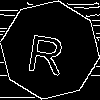R: (25, 25, 68, 76)
